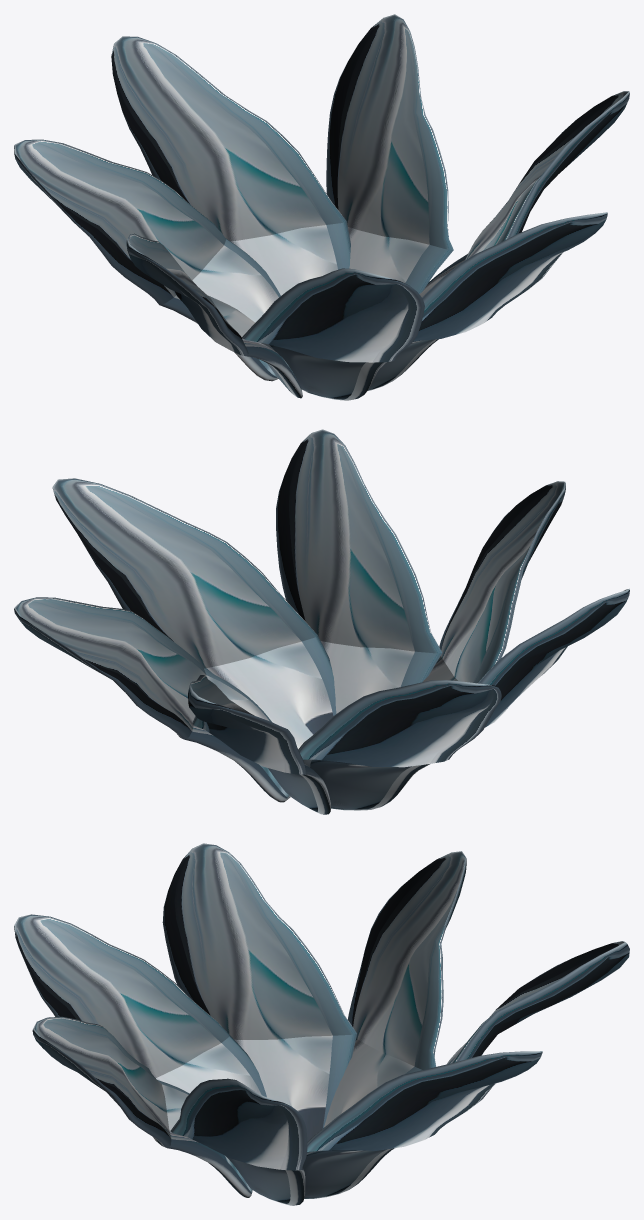
Rendered from shapekey.glb.
3 views of the same model, one above another, from view 1: azimuth 30°, elevation 25°; view 2: azimuth 150°, elevation 25°; view 3: azimuth 270°, elevation 25° (orthographic). The views are drawn at different scales.
Visible parts, largest first — view 1: Cube; view 2: Cube; view 3: Cube.
Part boxes in pixels (box(x1,y1,x2,y2)): Cube: box(14, 14, 629, 400); Cube: box(14, 429, 629, 814); Cube: box(14, 843, 629, 1205).
Size of the model in its own units: 2.59 by 1.07 by 2.64.
Materials: 1 (1 with a texture image).
